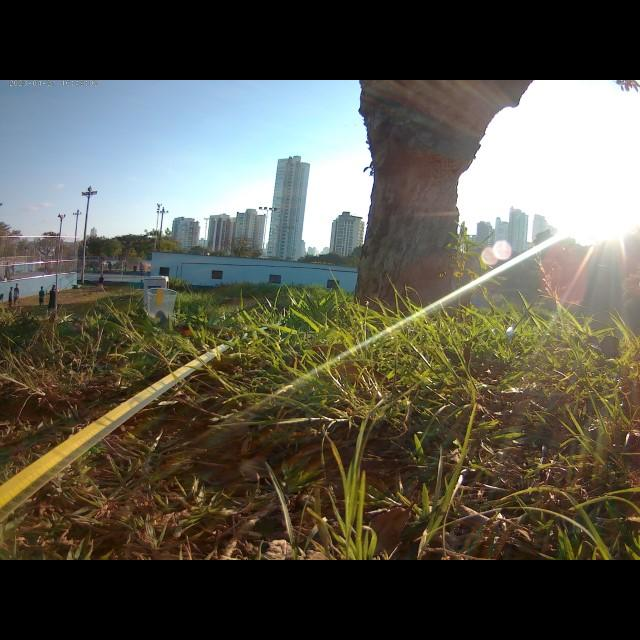arvore: (349, 81, 533, 329)
